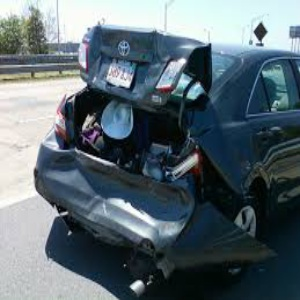bonnet: (85, 22, 208, 115)
bumper: (44, 146, 207, 249)
